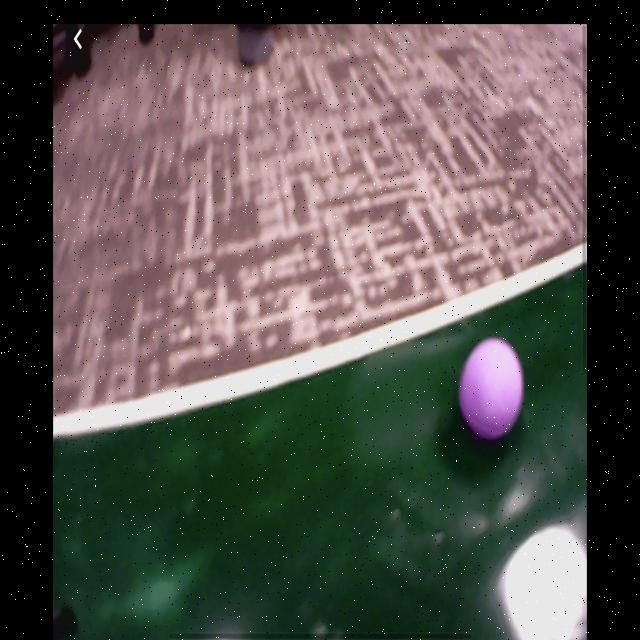ball: (458, 336, 526, 442)
